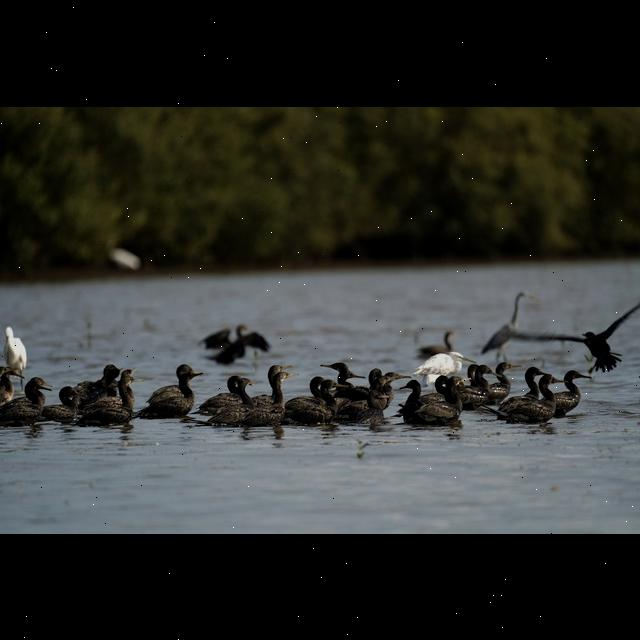cormorant: (568, 300, 640, 372), (482, 286, 540, 362), (400, 374, 466, 430), (135, 370, 203, 424), (202, 323, 270, 369), (0, 378, 56, 430), (556, 366, 590, 418)
